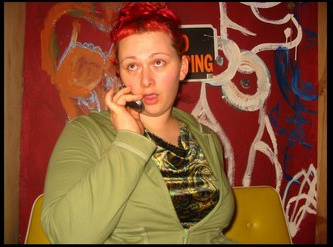person: (40, 2, 239, 247)
